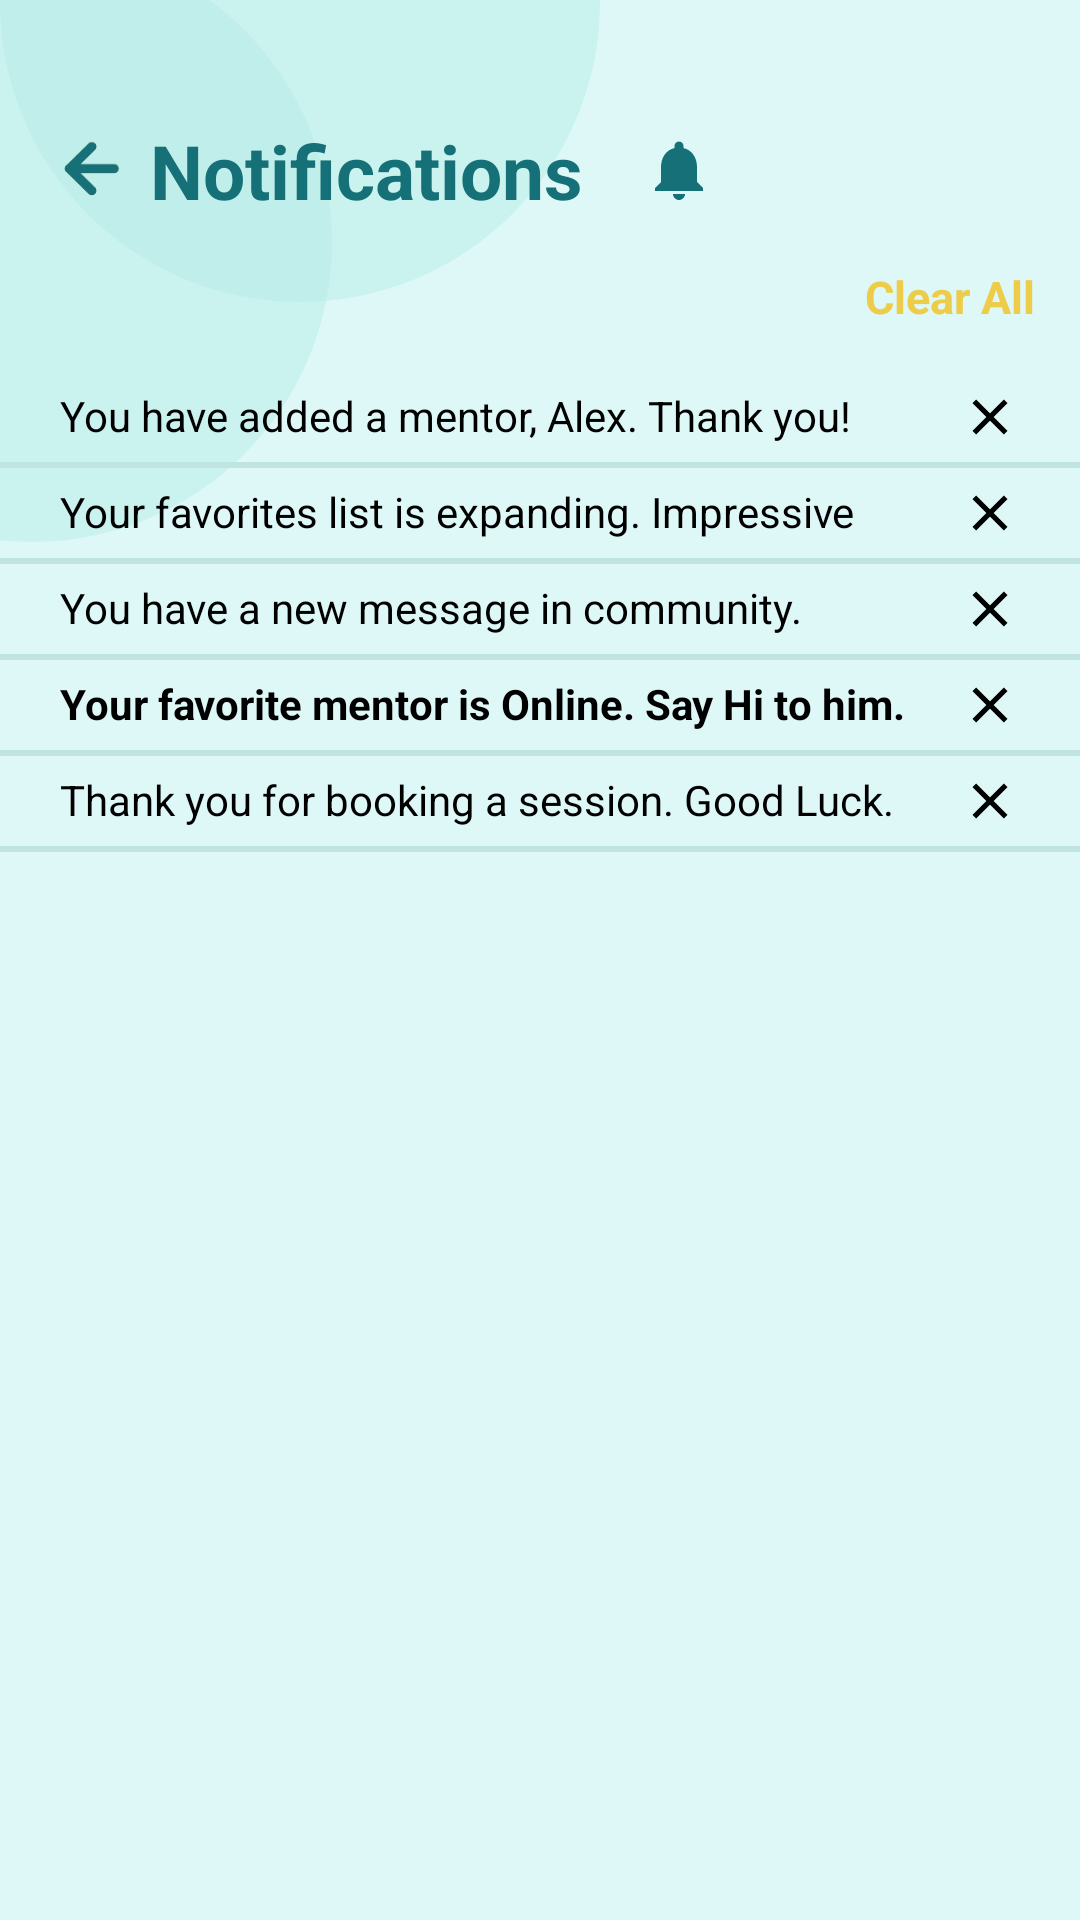

Locate icon controls on the screen. Image size 1080px×1920px, boxes as (x1, y1, x2, y2).
back arrow: (64, 142, 119, 195)
cross: (972, 399, 1008, 435), (972, 495, 1008, 531), (972, 591, 1008, 627), (972, 687, 1008, 723), (972, 783, 1008, 819)
